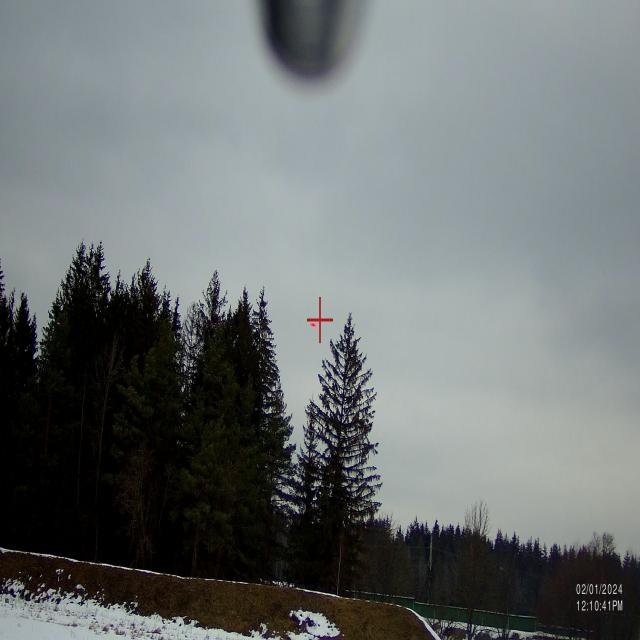entire: (309, 316, 321, 336)
